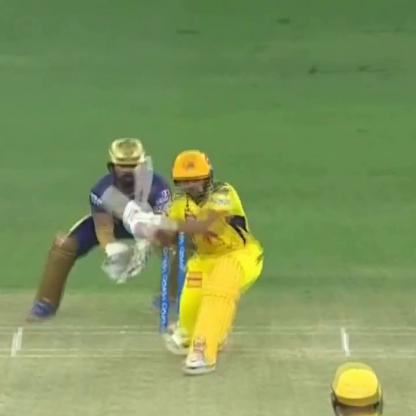ball: (169, 331, 188, 347)
bat: (90, 178, 150, 236), (128, 154, 157, 230)
pitch: (4, 315, 416, 416)
